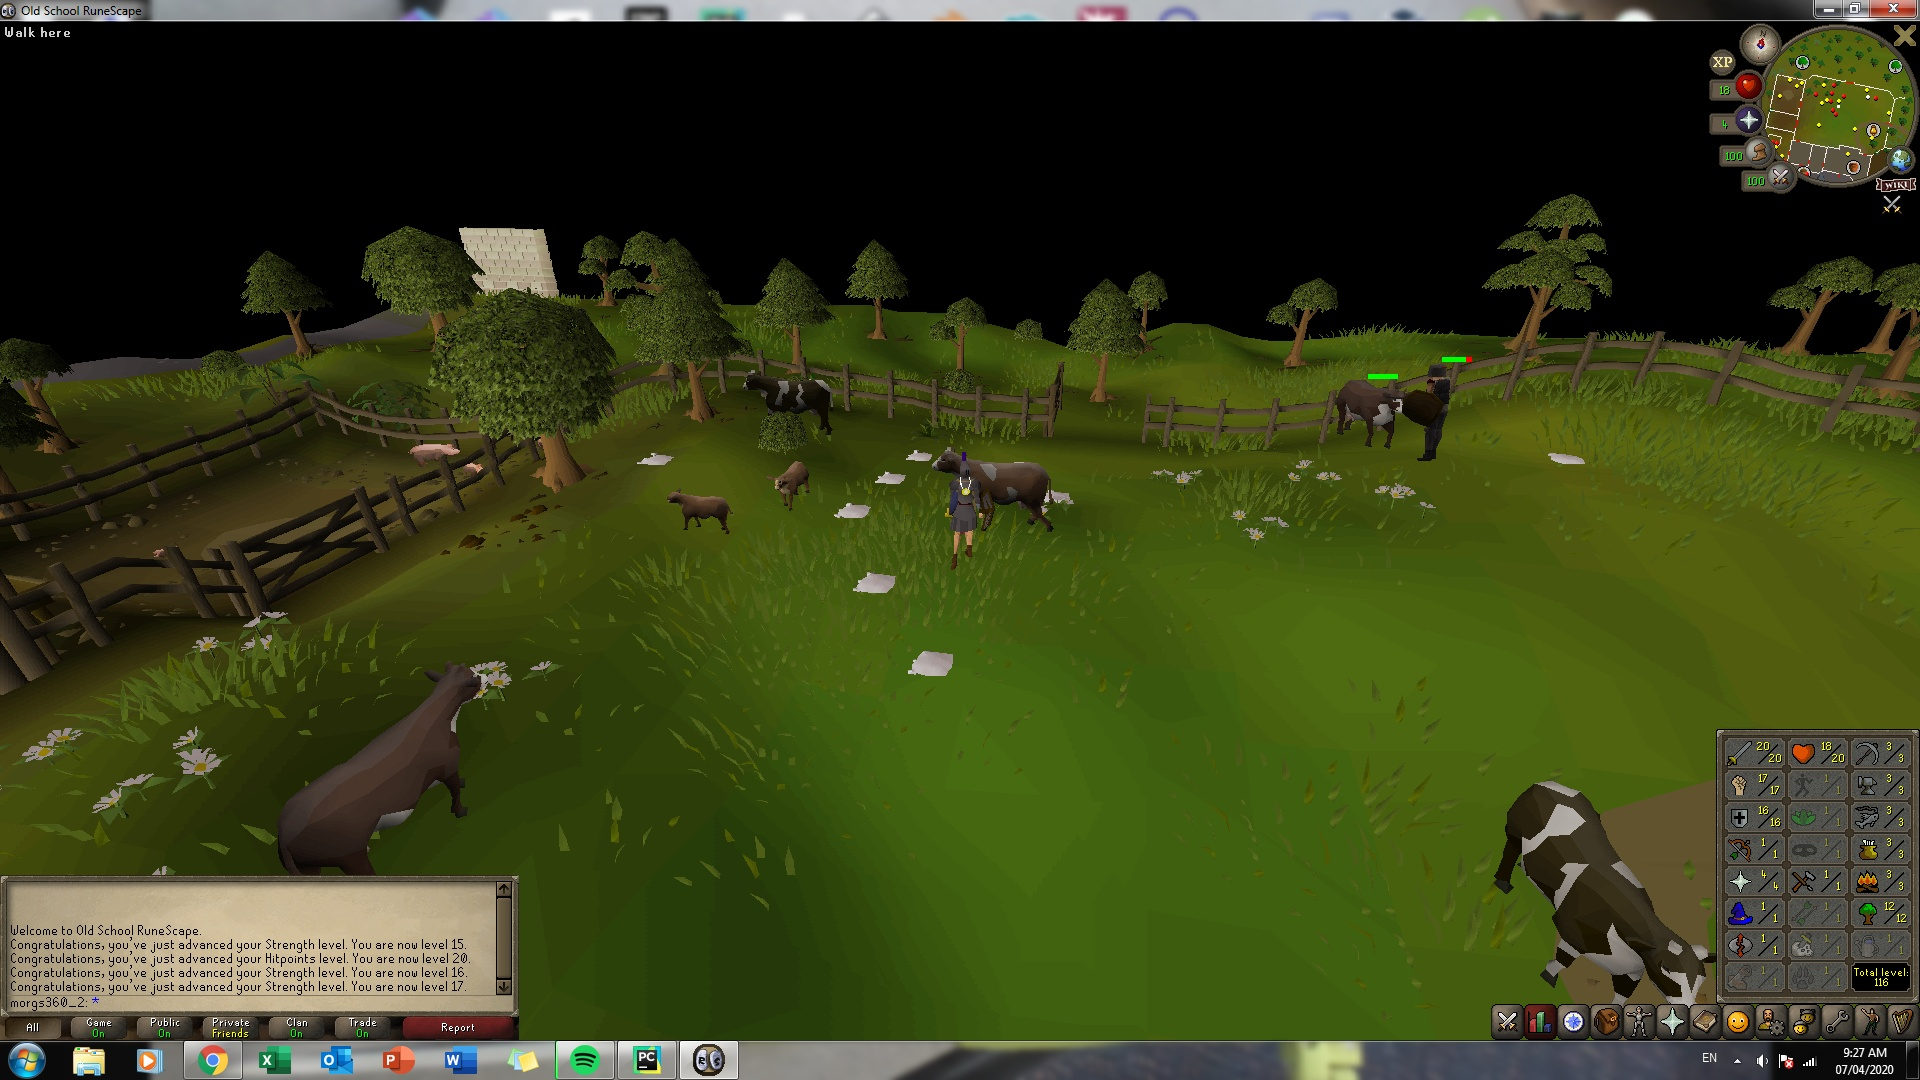cow: (1493, 778, 1710, 1001), (274, 663, 488, 873), (743, 371, 836, 439), (974, 460, 1052, 532), (1336, 378, 1403, 449), (664, 488, 731, 535), (768, 460, 816, 511)
player: (950, 460, 979, 568)
